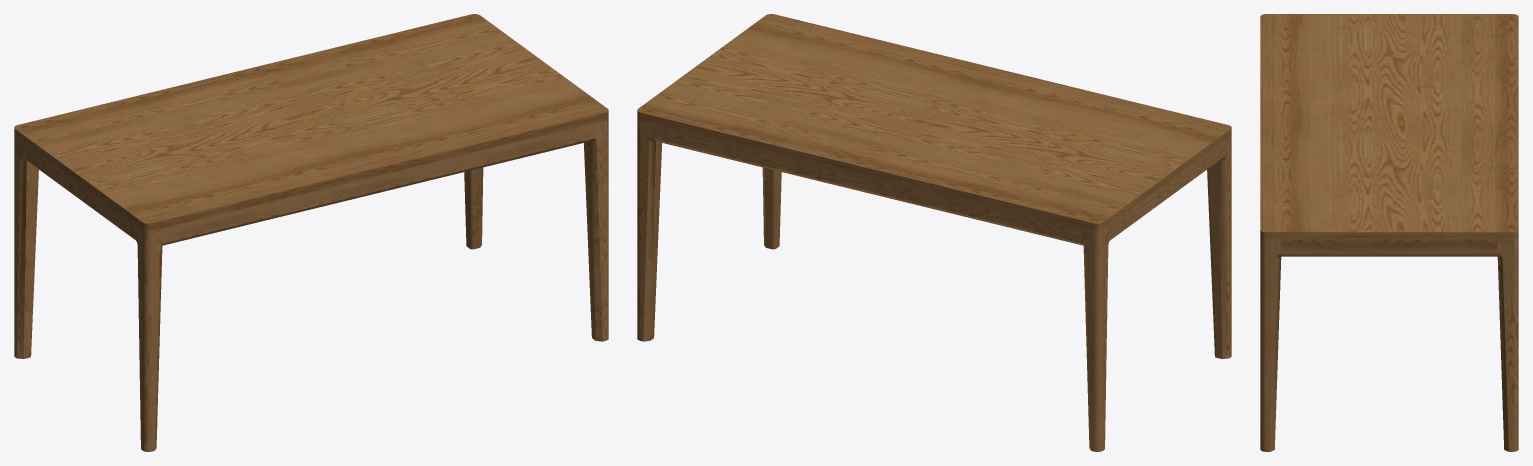
Rendered from table_oak.glb.
3 renders of one model, left to right at view 1: azimuth 30°, elevation 25°; view 2: azimuth 150°, elevation 25°; view 3: azimuth 270°, elevation 25°, orthographic. The views are drawn at different scales.
Visible parts, largest first — view 1: defaultMaterial; view 2: defaultMaterial; view 3: defaultMaterial.
Boxes of the visible parts, x1,y1,x2,y2 form: defaultMaterial: [14, 14, 608, 451]; defaultMaterial: [637, 14, 1231, 451]; defaultMaterial: [1260, 14, 1518, 451].
Bounding box in the file's own units: 1.6 × 0.7501 × 0.8001.
1 material, 1 textured.
